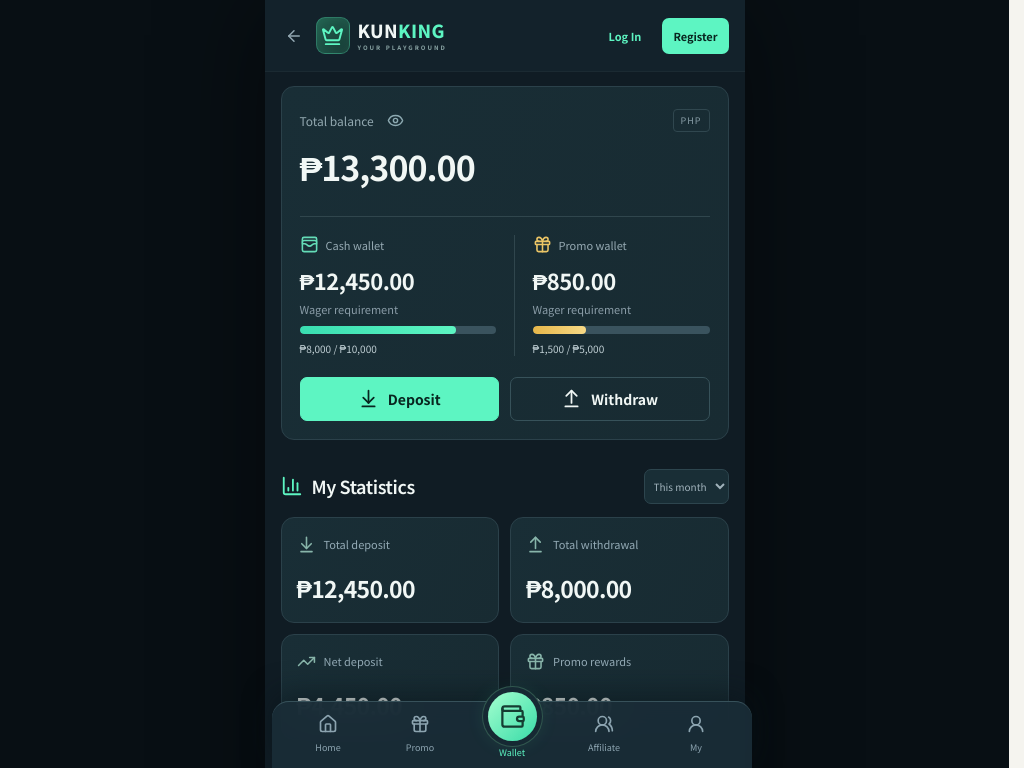
Test case: updates statistics independently and calculates net deposit
This screenshot has width=1024, height=768.
Select "Last month" in the dropdown named "Wallet statistics period" at (686, 486), box x1=644 y1=469 x2=728 y2=504
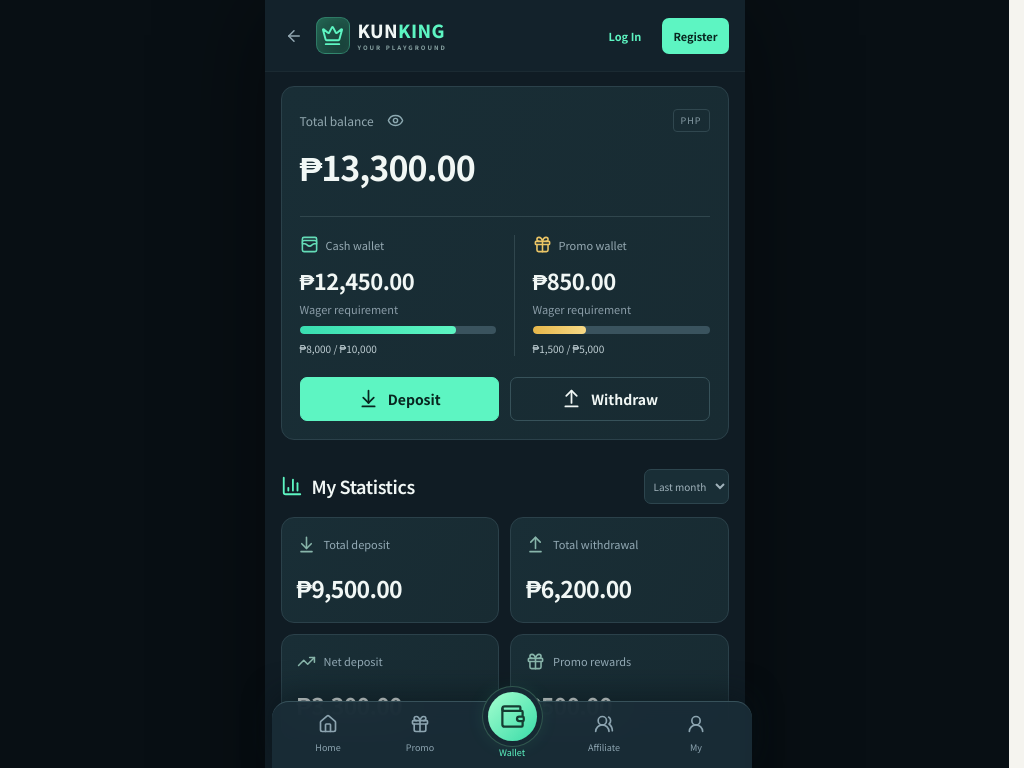
Expected: the text "₱3,300.00" is shown, x1=296 y1=688 x2=402 y2=722
Select "All time" in the dropdown named "Wallet statistics period" at (686, 486), box x1=644 y1=469 x2=728 y2=504
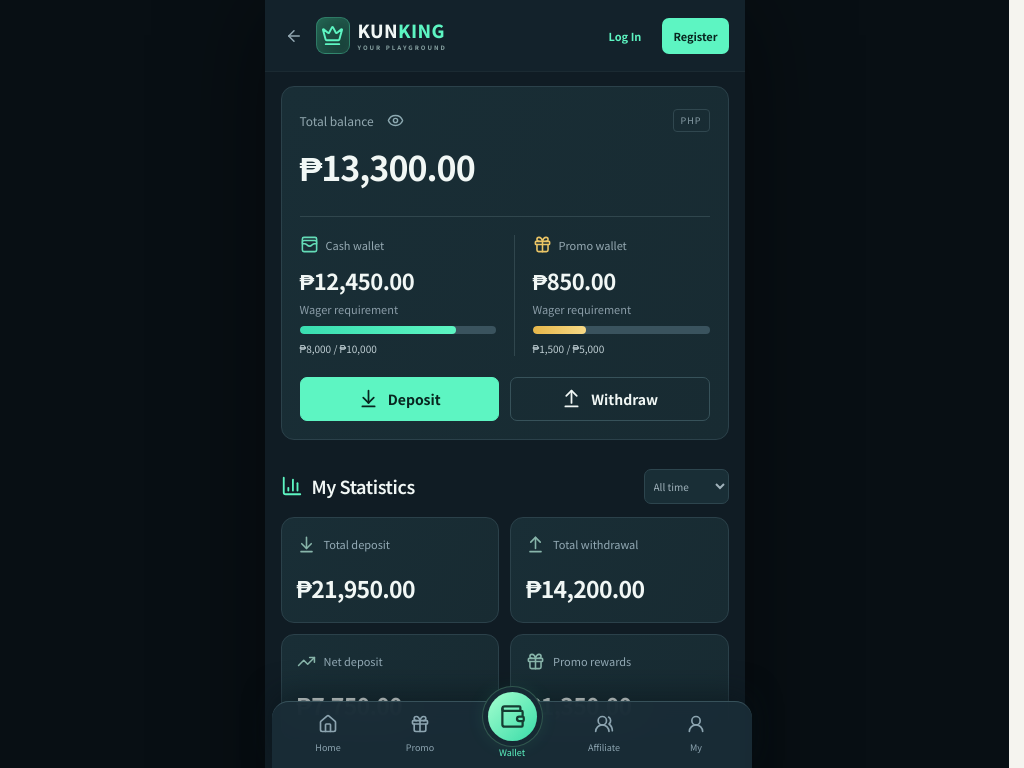
Expected: the text "₱7,750.00" is shown, x1=296 y1=688 x2=402 y2=722
